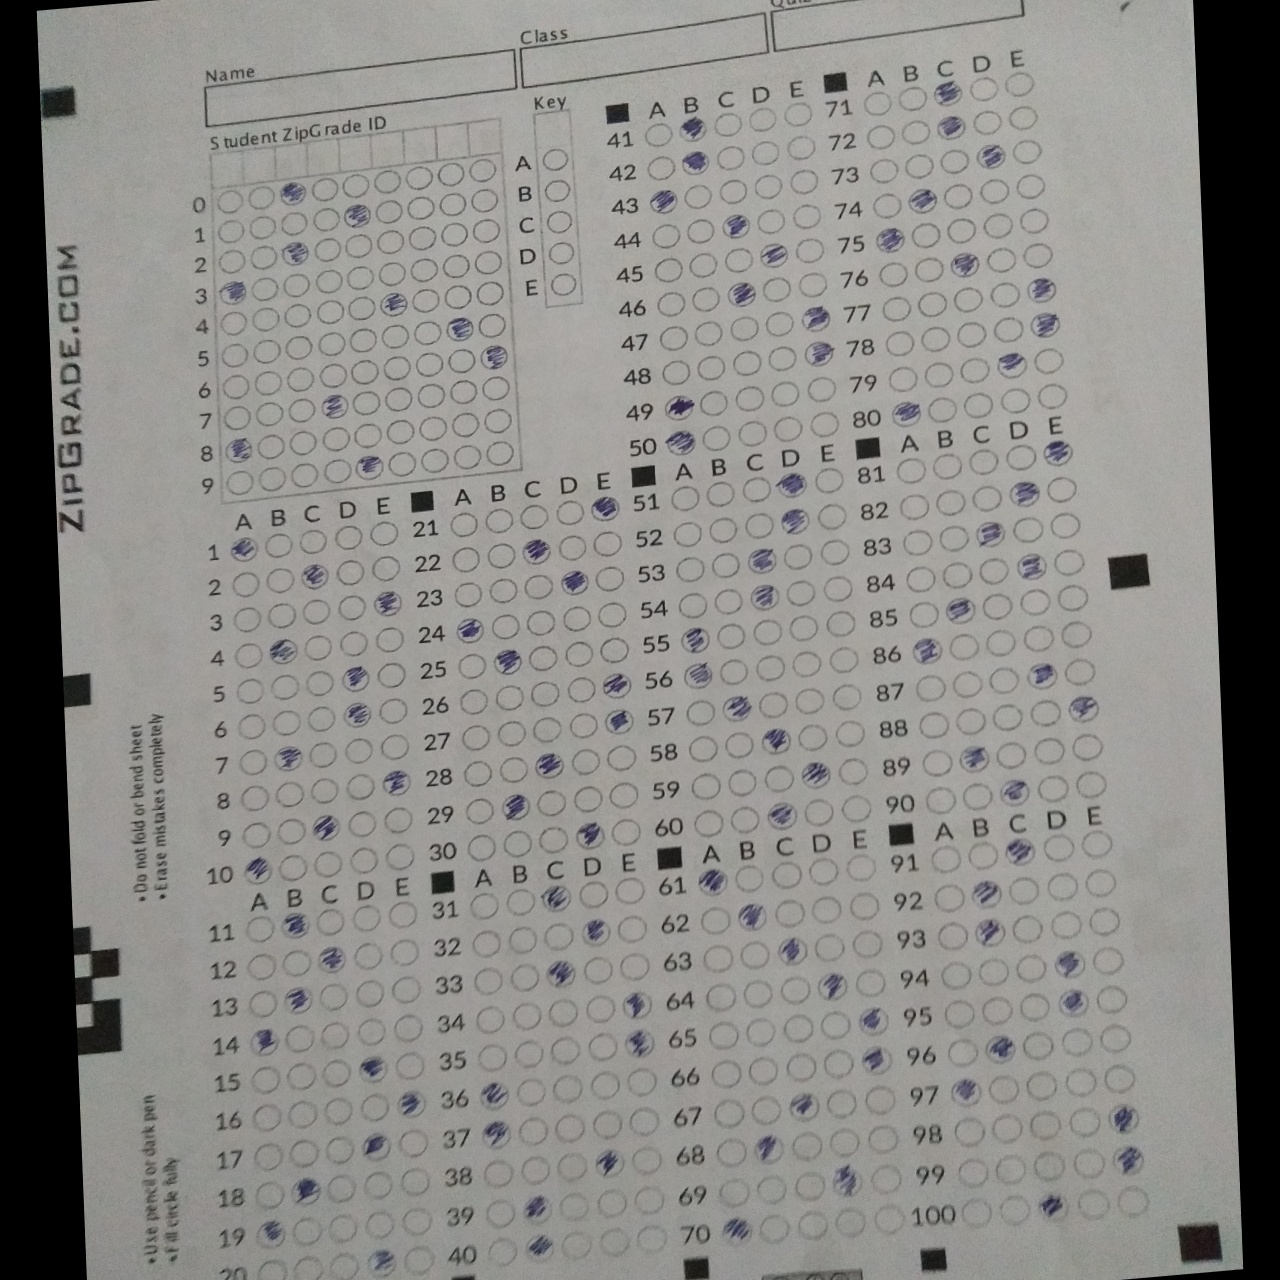not-c: (1028, 1145, 1065, 1186), (709, 1092, 748, 1131), (1114, 1182, 1152, 1219), (996, 1189, 1033, 1228), (1074, 1186, 1114, 1223), (978, 990, 1017, 1027), (593, 1223, 634, 1258), (1092, 981, 1133, 1016), (1089, 942, 1130, 978), (930, 880, 971, 915), (1061, 1062, 1098, 1099), (939, 994, 976, 1032), (482, 1231, 518, 1269), (714, 1175, 753, 1211), (958, 1191, 994, 1230), (1068, 1145, 1107, 1182), (949, 1114, 988, 1150), (869, 1200, 908, 1235), (931, 915, 971, 951), (248, 1175, 286, 1211), (553, 1149, 591, 1185), (853, 964, 890, 1001), (1099, 1058, 1137, 1095), (633, 1220, 672, 1255), (554, 1190, 594, 1224), (993, 1149, 1027, 1189), (481, 1194, 517, 1231), (954, 1153, 990, 1190), (1073, 765, 1109, 802), (700, 978, 737, 1013), (824, 1085, 862, 1121), (1065, 1105, 1103, 1141), (1085, 905, 1123, 940), (683, 730, 722, 764), (1021, 1068, 1060, 1102), (1041, 869, 1080, 903), (863, 1122, 903, 1155), (989, 312, 1029, 345), (248, 1138, 284, 1175), (285, 1135, 320, 1171), (395, 1124, 431, 1159), (586, 1067, 622, 1102), (695, 903, 731, 938), (753, 1172, 788, 1208), (792, 1167, 828, 1204), (832, 1204, 869, 1239), (1019, 987, 1054, 1023), (631, 1182, 668, 1216), (817, 1006, 855, 1040), (937, 956, 974, 990), (920, 783, 958, 817), (1056, 617, 1094, 651), (894, 490, 932, 524), (881, 362, 919, 396), (940, 1036, 979, 1069), (926, 842, 965, 874), (757, 1211, 792, 1246), (795, 1207, 830, 1242), (1098, 1020, 1133, 1055), (399, 1162, 433, 1198), (324, 1171, 360, 1205), (469, 964, 505, 998), (472, 1039, 509, 1073), (584, 1030, 620, 1064), (549, 1071, 585, 1105), (478, 1155, 515, 1189), (835, 753, 871, 787), (689, 804, 726, 838), (809, 893, 845, 927), (707, 1056, 743, 1090), (712, 1135, 748, 1169), (869, 1158, 903, 1194), (985, 1071, 1021, 1105), (975, 953, 1012, 987), (767, 859, 804, 892), (890, 454, 927, 486), (789, 234, 828, 266), (392, 1048, 425, 1083), (358, 1088, 392, 1123), (320, 1092, 355, 1126), (402, 1242, 436, 1278), (617, 949, 652, 983), (629, 1142, 665, 1176), (516, 1152, 551, 1186), (688, 767, 722, 802), (772, 896, 808, 930), (742, 1013, 776, 1048), (821, 1046, 855, 1081), (989, 1110, 1023, 1145), (1019, 621, 1054, 655), (975, 553, 1010, 587), (624, 1064, 660, 1097), (558, 1228, 594, 1261), (819, 571, 856, 604), (1026, 1108, 1062, 1141), (958, 781, 994, 813), (913, 707, 949, 740), (1026, 697, 1063, 729), (284, 1058, 318, 1092), (322, 1131, 356, 1165), (326, 1210, 360, 1244), (362, 1208, 396, 1242), (515, 1074, 549, 1108), (658, 353, 692, 387), (839, 791, 873, 825), (805, 855, 839, 888), (745, 1053, 779, 1087), (1015, 949, 1049, 983), (912, 670, 946, 704), (248, 1099, 284, 1132), (465, 890, 501, 922), (812, 463, 847, 496), (778, 973, 813, 1006), (790, 1129, 825, 1162), (1058, 1026, 1094, 1058), (1083, 865, 1118, 898), (1003, 441, 1039, 474), (1020, 238, 1055, 271), (399, 1205, 435, 1237), (539, 919, 576, 951), (806, 408, 843, 440), (864, 1082, 896, 1118), (938, 558, 974, 590), (960, 387, 996, 418), (987, 278, 1023, 309), (352, 937, 384, 971), (362, 1167, 395, 1201), (290, 1213, 322, 1247), (474, 1001, 506, 1035), (516, 1115, 550, 1148), (591, 1108, 625, 1141), (667, 481, 701, 513), (726, 765, 760, 798), (813, 930, 846, 964), (781, 1012, 815, 1044), (707, 1017, 740, 1051), (750, 1092, 783, 1126), (995, 738, 1029, 771), (1032, 735, 1065, 768), (953, 703, 987, 736), (1064, 655, 1098, 688), (979, 590, 1013, 622), (983, 243, 1017, 275), (281, 942, 314, 976), (284, 1020, 315, 1055), (613, 874, 648, 906), (627, 1107, 662, 1138), (758, 275, 794, 307), (655, 320, 690, 352), (692, 316, 727, 348), (736, 939, 771, 971), (699, 942, 734, 974), (826, 1126, 862, 1158), (988, 700, 1023, 731), (1010, 513, 1046, 545), (1044, 474, 1080, 505), (874, 258, 910, 290), (867, 189, 903, 220), (948, 669, 985, 700), (1054, 583, 1090, 613), (1047, 510, 1083, 540), (244, 949, 277, 982), (513, 1037, 546, 1070), (805, 372, 838, 404), (824, 606, 857, 639), (849, 890, 881, 922), (784, 1050, 817, 1083), (904, 561, 937, 594), (967, 443, 1000, 476), (922, 358, 955, 390), (945, 215, 978, 247), (981, 209, 1014, 241), (212, 184, 246, 216), (350, 901, 384, 933), (320, 1055, 352, 1089), (583, 993, 617, 1024), (549, 1034, 583, 1065), (553, 1111, 587, 1143), (595, 1187, 629, 1219), (770, 411, 804, 443), (734, 416, 768, 448), (761, 762, 795, 794), (801, 796, 835, 828), (731, 863, 765, 894), (741, 978, 775, 1009), (1021, 1030, 1055, 1062), (1010, 913, 1044, 945), (1006, 874, 1040, 906), (967, 839, 1001, 871), (1041, 832, 1075, 864), (1080, 828, 1114, 859), (1037, 772, 1069, 806), (919, 745, 953, 777), (946, 631, 980, 662), (907, 598, 941, 629), (934, 486, 968, 518), (918, 321, 952, 353), (731, 382, 767, 413), (1051, 547, 1087, 578), (899, 527, 934, 558), (949, 285, 985, 315), (639, 120, 675, 149), (849, 928, 885, 958), (968, 107, 1005, 136), (652, 290, 689, 318), (413, 348, 445, 380), (392, 1012, 424, 1043), (286, 1098, 319, 1130), (784, 130, 816, 163), (730, 347, 763, 379), (826, 644, 859, 675), (723, 727, 755, 760), (729, 802, 761, 835), (845, 850, 878, 881), (1049, 908, 1082, 940), (1071, 731, 1103, 764), (983, 626, 1016, 658), (954, 316, 987, 348), (860, 87, 893, 118), (216, 339, 250, 369), (608, 778, 642, 809), (468, 930, 502, 960), (546, 995, 577, 1029), (511, 998, 542, 1032), (721, 245, 755, 275), (832, 717, 866, 748), (988, 665, 1022, 695), (1017, 586, 1051, 617), (971, 484, 1005, 515), (930, 450, 964, 481), (956, 355, 990, 386), (883, 326, 917, 356), (915, 288, 949, 319), (217, 372, 252, 401), (779, 98, 815, 128), (1003, 69, 1039, 98), (311, 234, 342, 266), (319, 1020, 350, 1051), (318, 980, 349, 1012), (389, 937, 421, 968), (728, 312, 760, 343), (1036, 379, 1068, 410), (864, 120, 896, 151), (568, 745, 601, 776), (610, 817, 642, 847), (617, 912, 647, 945), (508, 922, 538, 955), (581, 954, 614, 985), (796, 722, 829, 753), (910, 219, 942, 250), (467, 832, 501, 862), (576, 879, 610, 908), (508, 962, 542, 992), (794, 686, 828, 715), (1033, 346, 1067, 375), (1017, 206, 1051, 236), (978, 176, 1012, 205), (937, 147, 971, 176), (647, 220, 682, 248), (469, 215, 501, 245), (411, 316, 443, 347), (353, 978, 384, 1008), (765, 343, 797, 374), (1000, 383, 1032, 414), (880, 293, 912, 324), (1012, 135, 1042, 166), (867, 155, 899, 185), (896, 82, 927, 113), (327, 1251, 360, 1280), (503, 887, 536, 917), (788, 166, 821, 196), (756, 689, 789, 719), (903, 151, 935, 181), (644, 154, 678, 182), (937, 524, 971, 552), (754, 171, 784, 202), (831, 681, 862, 712), (284, 365, 315, 394), (707, 515, 738, 544), (379, 731, 410, 761), (356, 1014, 386, 1046), (390, 975, 422, 1005), (749, 138, 781, 168), (717, 177, 749, 206), (687, 251, 719, 280), (700, 422, 731, 451), (704, 478, 736, 508), (942, 181, 974, 210), (900, 117, 932, 147), (372, 197, 404, 225), (474, 279, 506, 307), (605, 743, 638, 771), (789, 200, 822, 229), (754, 207, 787, 236), (652, 254, 685, 282), (740, 475, 772, 503), (1015, 172, 1048, 200), (292, 1253, 326, 1280), (796, 271, 830, 298), (254, 1255, 291, 1280), (340, 170, 370, 199), (482, 406, 512, 435), (536, 788, 566, 817), (248, 988, 279, 1017), (699, 386, 728, 416), (685, 216, 716, 244), (690, 286, 722, 314), (763, 309, 795, 338), (790, 649, 822, 678), (1007, 104, 1039, 132), (912, 256, 945, 282), (967, 75, 1000, 102), (438, 218, 468, 247), (250, 273, 279, 302), (447, 346, 476, 375), (376, 659, 406, 688), (250, 1065, 279, 1095), (372, 166, 402, 195), (436, 159, 467, 188), (312, 205, 342, 233), (343, 231, 374, 259), (407, 223, 437, 251), (409, 256, 440, 284), (476, 311, 506, 339), (353, 421, 383, 449), (384, 417, 415, 445), (448, 377, 478, 406), (257, 464, 287, 492), (224, 468, 254, 496), (451, 442, 482, 470), (484, 438, 515, 467), (350, 388, 381, 416), (297, 527, 327, 556), (333, 524, 363, 552), (263, 530, 293, 558), (232, 605, 263, 633), (266, 601, 297, 629), (265, 566, 295, 594), (334, 558, 365, 586), (484, 506, 515, 535), (418, 447, 449, 475), (449, 510, 479, 538), (452, 580, 483, 608), (338, 629, 368, 658), (302, 633, 333, 661), (673, 519, 703, 547), (597, 600, 627, 628), (490, 612, 520, 640), (563, 639, 593, 667), (561, 604, 592, 632), (714, 587, 744, 615), (678, 590, 708, 618), (234, 676, 265, 704), (268, 672, 299, 700), (305, 668, 335, 696), (343, 736, 374, 764), (271, 708, 301, 736), (306, 704, 336, 733), (817, 503, 847, 531), (743, 511, 774, 539), (788, 613, 818, 641), (715, 621, 745, 649), (461, 722, 491, 750), (497, 719, 527, 747), (531, 715, 561, 743), (686, 697, 716, 726), (462, 760, 492, 788), (493, 683, 524, 712), (755, 654, 785, 682), (384, 842, 415, 870), (312, 849, 342, 877), (503, 828, 533, 856), (387, 900, 417, 928), (403, 164, 435, 191), (217, 309, 248, 336), (544, 207, 576, 234), (380, 322, 411, 349), (386, 450, 417, 477), (747, 105, 778, 132), (712, 111, 744, 137), (246, 183, 275, 211), (247, 213, 277, 241), (406, 193, 435, 222), (314, 266, 343, 294), (377, 260, 407, 288), (251, 305, 280, 333), (546, 238, 576, 266), (549, 268, 578, 297), (252, 336, 281, 365), (284, 333, 313, 361), (287, 429, 316, 457), (418, 414, 448, 442), (451, 410, 481, 438), (222, 403, 251, 431), (383, 354, 413, 382), (451, 545, 481, 573), (301, 597, 331, 625), (370, 554, 400, 583), (554, 499, 584, 527), (369, 519, 399, 547), (324, 456, 353, 484), (336, 593, 366, 621), (231, 570, 260, 598), (594, 564, 624, 592), (593, 530, 622, 558), (375, 624, 404, 652), (457, 652, 486, 680), (488, 576, 517, 604), (524, 572, 553, 600), (783, 542, 812, 570), (785, 579, 815, 607), (233, 641, 263, 669), (458, 687, 488, 715), (308, 740, 338, 768), (377, 697, 407, 726), (819, 538, 849, 566), (240, 783, 270, 811), (308, 775, 338, 803), (238, 747, 267, 775), (753, 617, 782, 645), (526, 607, 556, 635), (464, 797, 493, 825), (573, 784, 602, 812), (498, 755, 527, 783), (530, 679, 559, 707), (566, 676, 595, 704), (349, 846, 379, 874), (539, 825, 568, 853), (348, 810, 377, 838), (383, 805, 413, 833), (314, 908, 343, 937), (275, 817, 305, 845), (683, 182, 713, 210), (696, 353, 726, 381), (770, 379, 799, 407), (468, 157, 498, 184), (216, 216, 246, 243), (437, 191, 468, 218), (282, 268, 309, 299), (440, 253, 470, 280), (410, 287, 441, 314), (486, 542, 517, 568), (518, 503, 549, 530), (557, 535, 587, 561), (599, 636, 629, 663), (345, 772, 375, 799), (237, 712, 267, 738), (277, 855, 307, 881), (244, 915, 274, 942), (715, 144, 745, 171), (926, 396, 956, 423), (376, 227, 404, 256), (316, 297, 345, 325), (481, 374, 509, 402), (256, 399, 284, 427), (417, 381, 445, 409), (712, 550, 740, 578), (676, 554, 704, 583), (241, 821, 270, 849), (280, 210, 309, 237), (217, 247, 246, 274), (474, 248, 503, 275), (282, 302, 312, 329), (316, 331, 346, 358), (348, 326, 377, 353), (253, 369, 282, 396), (321, 425, 350, 452), (383, 384, 413, 411), (290, 459, 319, 486), (256, 433, 285, 459), (527, 644, 557, 670), (275, 779, 305, 806), (719, 658, 748, 685), (568, 712, 598, 738), (346, 264, 374, 291), (443, 282, 471, 309), (542, 144, 568, 172), (350, 358, 379, 384), (346, 295, 375, 321), (542, 177, 571, 203), (316, 362, 346, 388), (248, 244, 275, 271), (309, 176, 338, 202), (470, 188, 498, 213)
taken-c: (1108, 1141, 1148, 1178), (982, 1029, 1020, 1065), (829, 1162, 864, 1200), (734, 898, 770, 934), (1104, 1099, 1141, 1136), (1035, 1187, 1071, 1224), (1055, 985, 1092, 1020), (252, 1216, 288, 1251), (815, 968, 850, 1005), (787, 1088, 822, 1124), (753, 1130, 787, 1167), (972, 915, 1009, 949), (1053, 946, 1088, 981), (948, 1074, 983, 1109), (593, 1145, 627, 1182), (478, 1118, 515, 1152), (775, 932, 809, 968), (1023, 659, 1060, 693), (1065, 692, 1102, 726), (968, 877, 1005, 911), (858, 1042, 896, 1075), (281, 983, 316, 1017), (287, 1175, 322, 1208), (621, 987, 655, 1022), (544, 956, 579, 990), (857, 1003, 891, 1039), (720, 1214, 754, 1250), (1002, 835, 1037, 869), (1027, 309, 1064, 341), (247, 1024, 281, 1058), (365, 1246, 399, 1280), (520, 1193, 554, 1227), (489, 645, 524, 678), (1007, 477, 1042, 510), (395, 1087, 428, 1121), (361, 1128, 394, 1162), (905, 183, 939, 216), (1014, 550, 1048, 583), (911, 634, 945, 667), (958, 742, 992, 775), (998, 776, 1032, 809), (695, 866, 730, 898), (888, 399, 924, 430), (973, 517, 1008, 549), (942, 594, 978, 626), (501, 790, 533, 823), (478, 1080, 511, 1112), (539, 883, 572, 915), (665, 425, 697, 458), (974, 139, 1007, 172), (1026, 272, 1058, 305), (779, 505, 813, 537), (678, 625, 712, 656), (765, 799, 799, 831), (356, 1054, 390, 1085), (522, 1231, 556, 1262), (726, 278, 760, 309), (996, 349, 1030, 381), (661, 393, 696, 423), (801, 338, 836, 368), (930, 79, 965, 109), (241, 855, 274, 886), (532, 749, 565, 781), (720, 692, 753, 723), (315, 942, 347, 975), (580, 915, 612, 948), (588, 493, 622, 524), (775, 470, 809, 501), (760, 726, 794, 756), (798, 760, 832, 790), (622, 1028, 656, 1058), (799, 304, 833, 334), (647, 186, 681, 217), (947, 248, 981, 279), (1041, 438, 1076, 468), (381, 767, 413, 798), (682, 660, 714, 692), (309, 813, 342, 844), (520, 536, 553, 566), (602, 704, 635, 735), (574, 819, 607, 850), (748, 581, 781, 612), (873, 225, 906, 256), (372, 588, 406, 618), (745, 546, 779, 576), (477, 341, 509, 372), (340, 663, 372, 694), (272, 742, 304, 772), (678, 114, 709, 144), (227, 535, 260, 564), (600, 670, 633, 700), (720, 212, 753, 241), (679, 148, 712, 177), (756, 241, 790, 270), (341, 700, 372, 730), (559, 566, 590, 597), (279, 238, 311, 267), (935, 113, 967, 142), (298, 561, 331, 590), (454, 615, 486, 644), (341, 202, 373, 230), (223, 435, 254, 463), (278, 911, 309, 939), (216, 279, 248, 306), (318, 393, 350, 420), (379, 290, 408, 319), (277, 179, 307, 207), (354, 454, 384, 482), (266, 636, 298, 663), (445, 315, 474, 343)
